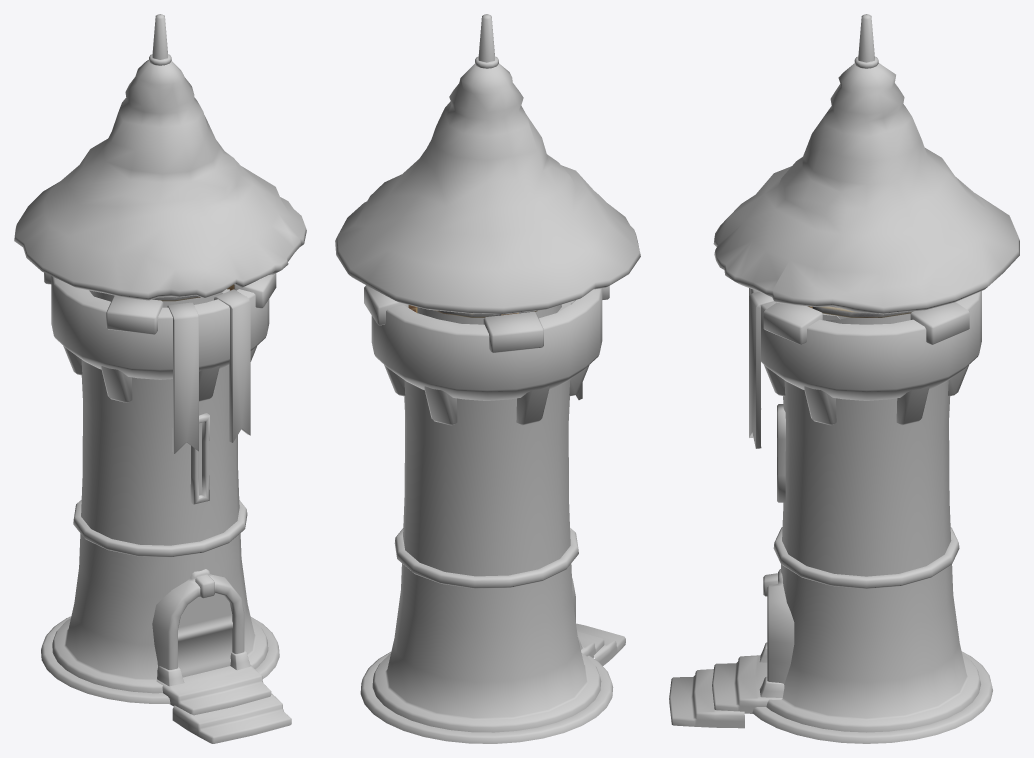
Rendered from TowerInternalGeometry.fbx.
The picture shows the model from 3 angles, left to right: view 1: azimuth 30°, elevation 25°; view 2: azimuth 150°, elevation 25°; view 3: azimuth 270°, elevation 25°; orthographic projection. The views are drawn at different scales.
Parts seen in each view (by area): view 1: Cylinder027; view 2: Cylinder027; view 3: Cylinder027.
Part boxes in pixels (box(x1,y1,x2,y2)): Cylinder027: box(14, 14, 306, 743); Cylinder027: box(335, 14, 640, 743); Cylinder027: box(669, 14, 1019, 743).
Bounding box in the file's own units: 770 × 1909 × 880.
